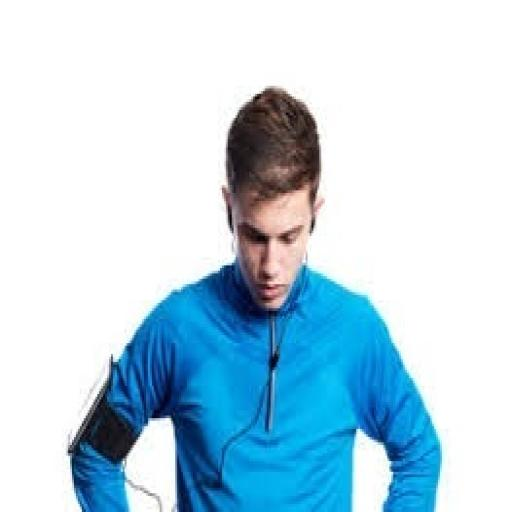listening_to_music: (66, 83, 446, 509)
